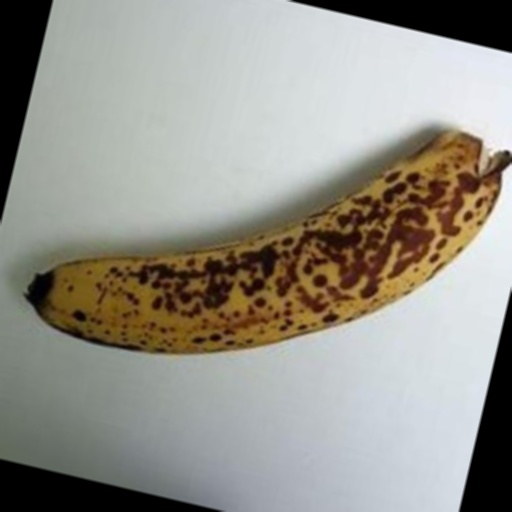fruit: (0, 113, 97, 463)
